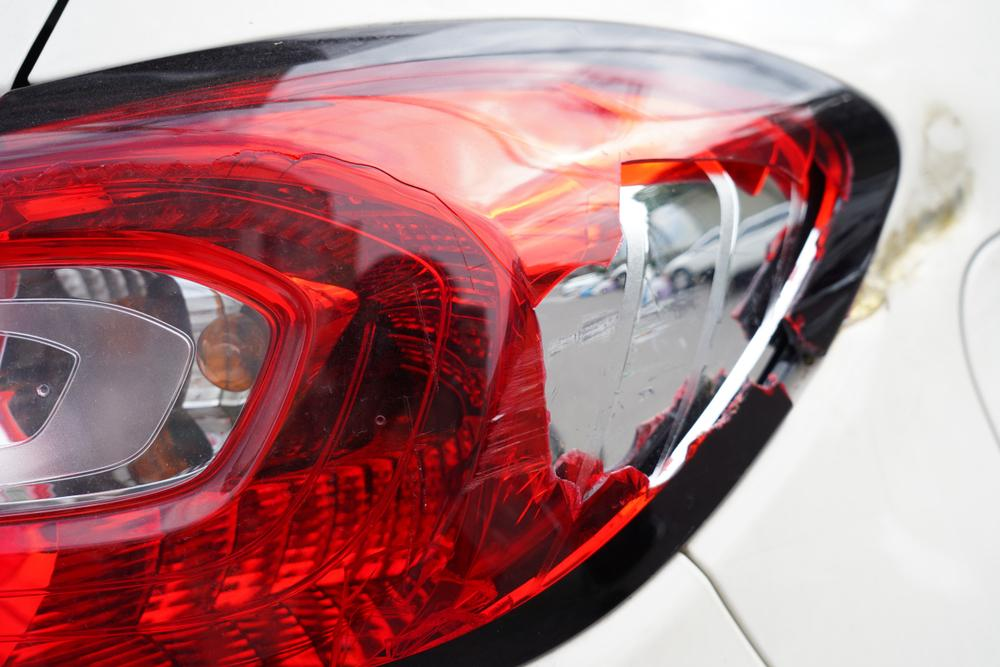lamp broken: (0, 23, 883, 667)
